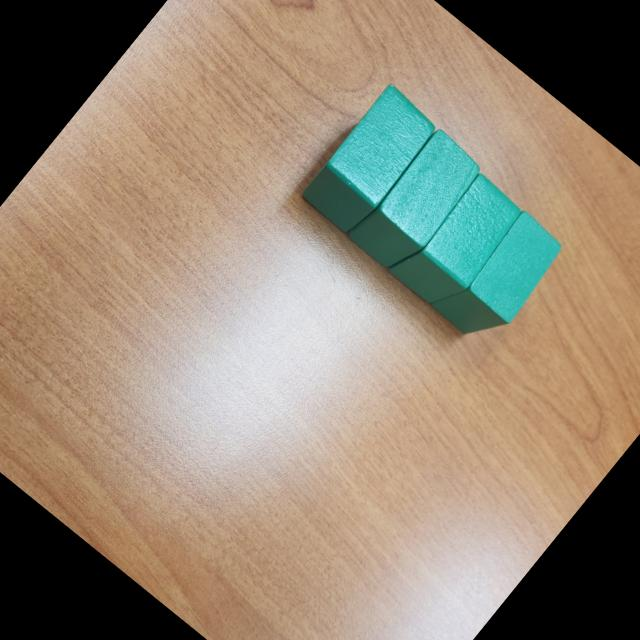green: (294, 79, 444, 240), (344, 125, 490, 282), (426, 198, 572, 352), (386, 164, 530, 318)
